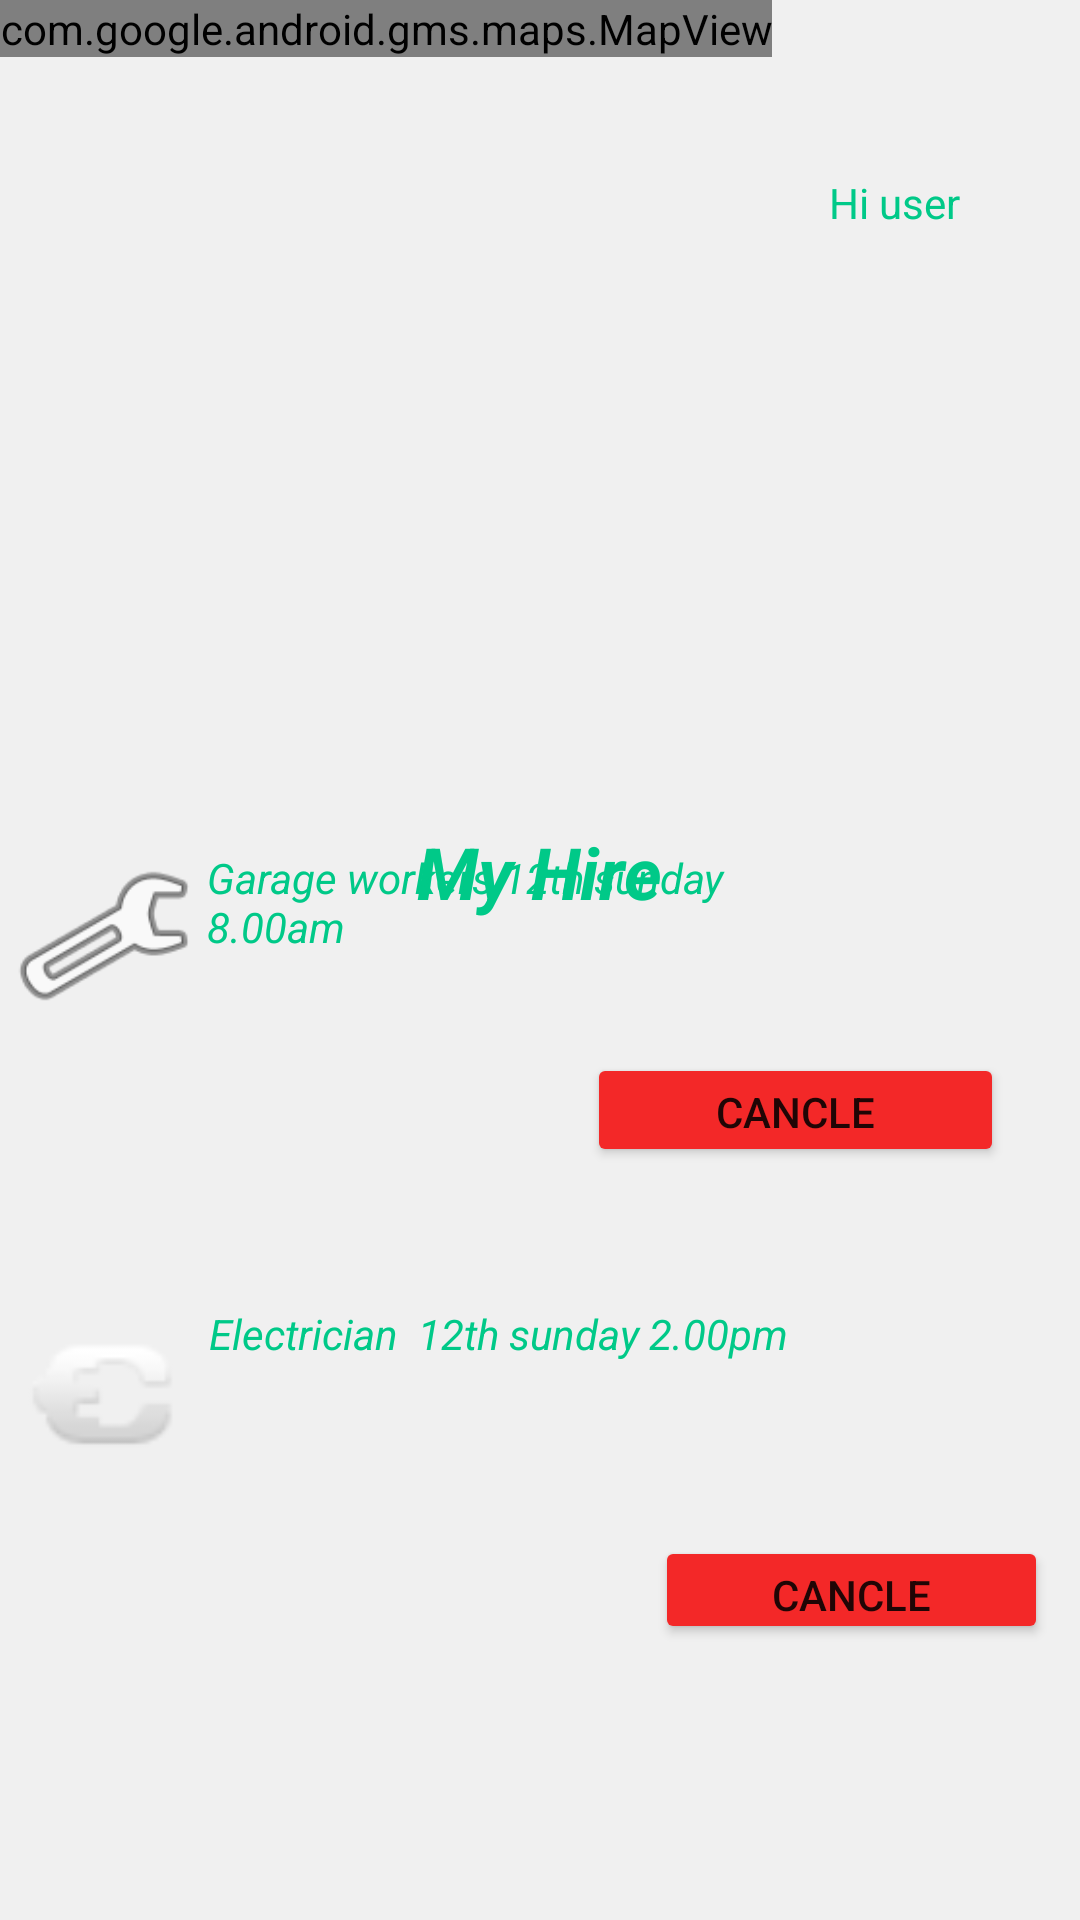

Icon bounding boxes for this 1080*1920 phone screenshot, format (x1, y1, x2, y2):
manage: (20, 872, 188, 1000)
